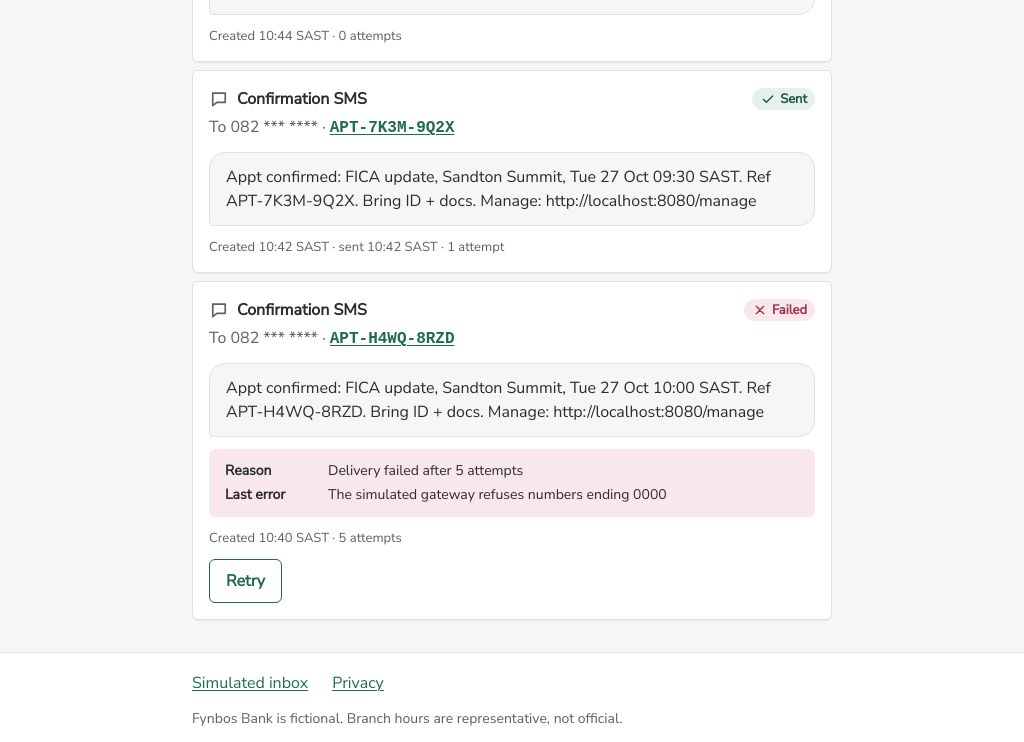
Scenario: InboxPage › says why a retry was refused, and leaves the button to try again
(page scrolled)
Click the button with aria-label "Retry the confirmation SMS": x=246, y=581 [209,559,282,603]
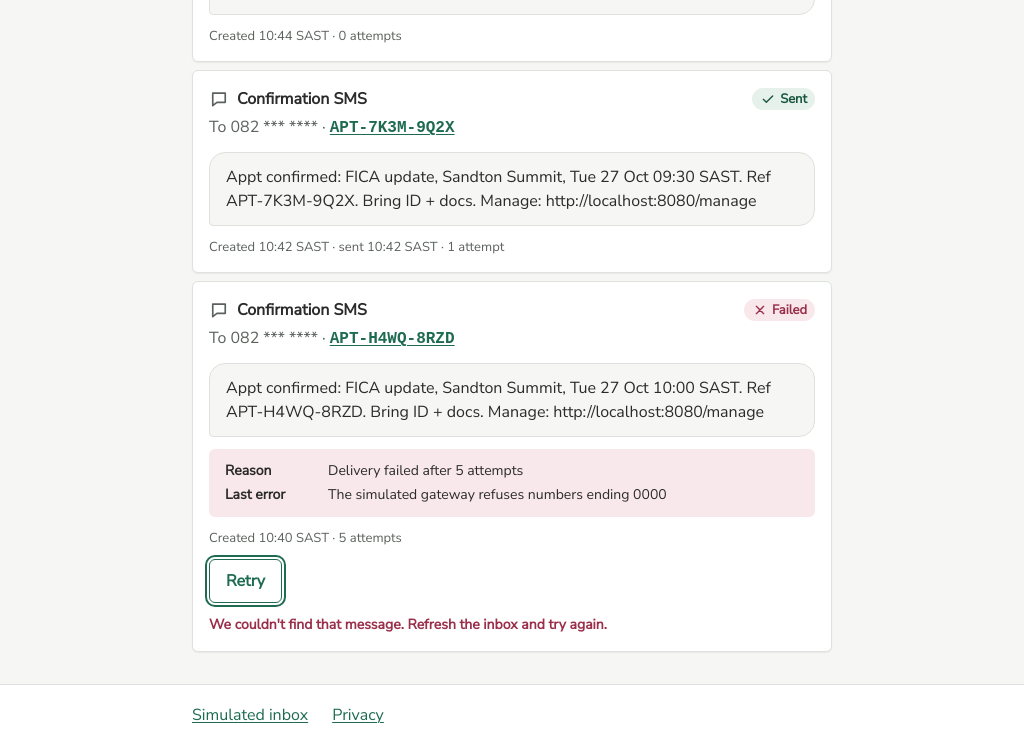
Expected: the message reads "We couldn't find that message. Refresh the inbox and try again.", [209,615,607,634]
